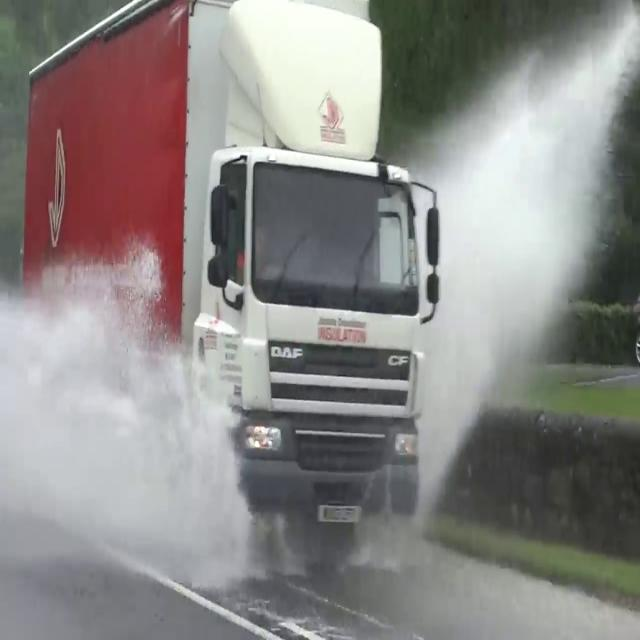license-plate-annotation: (318, 501, 359, 526)
